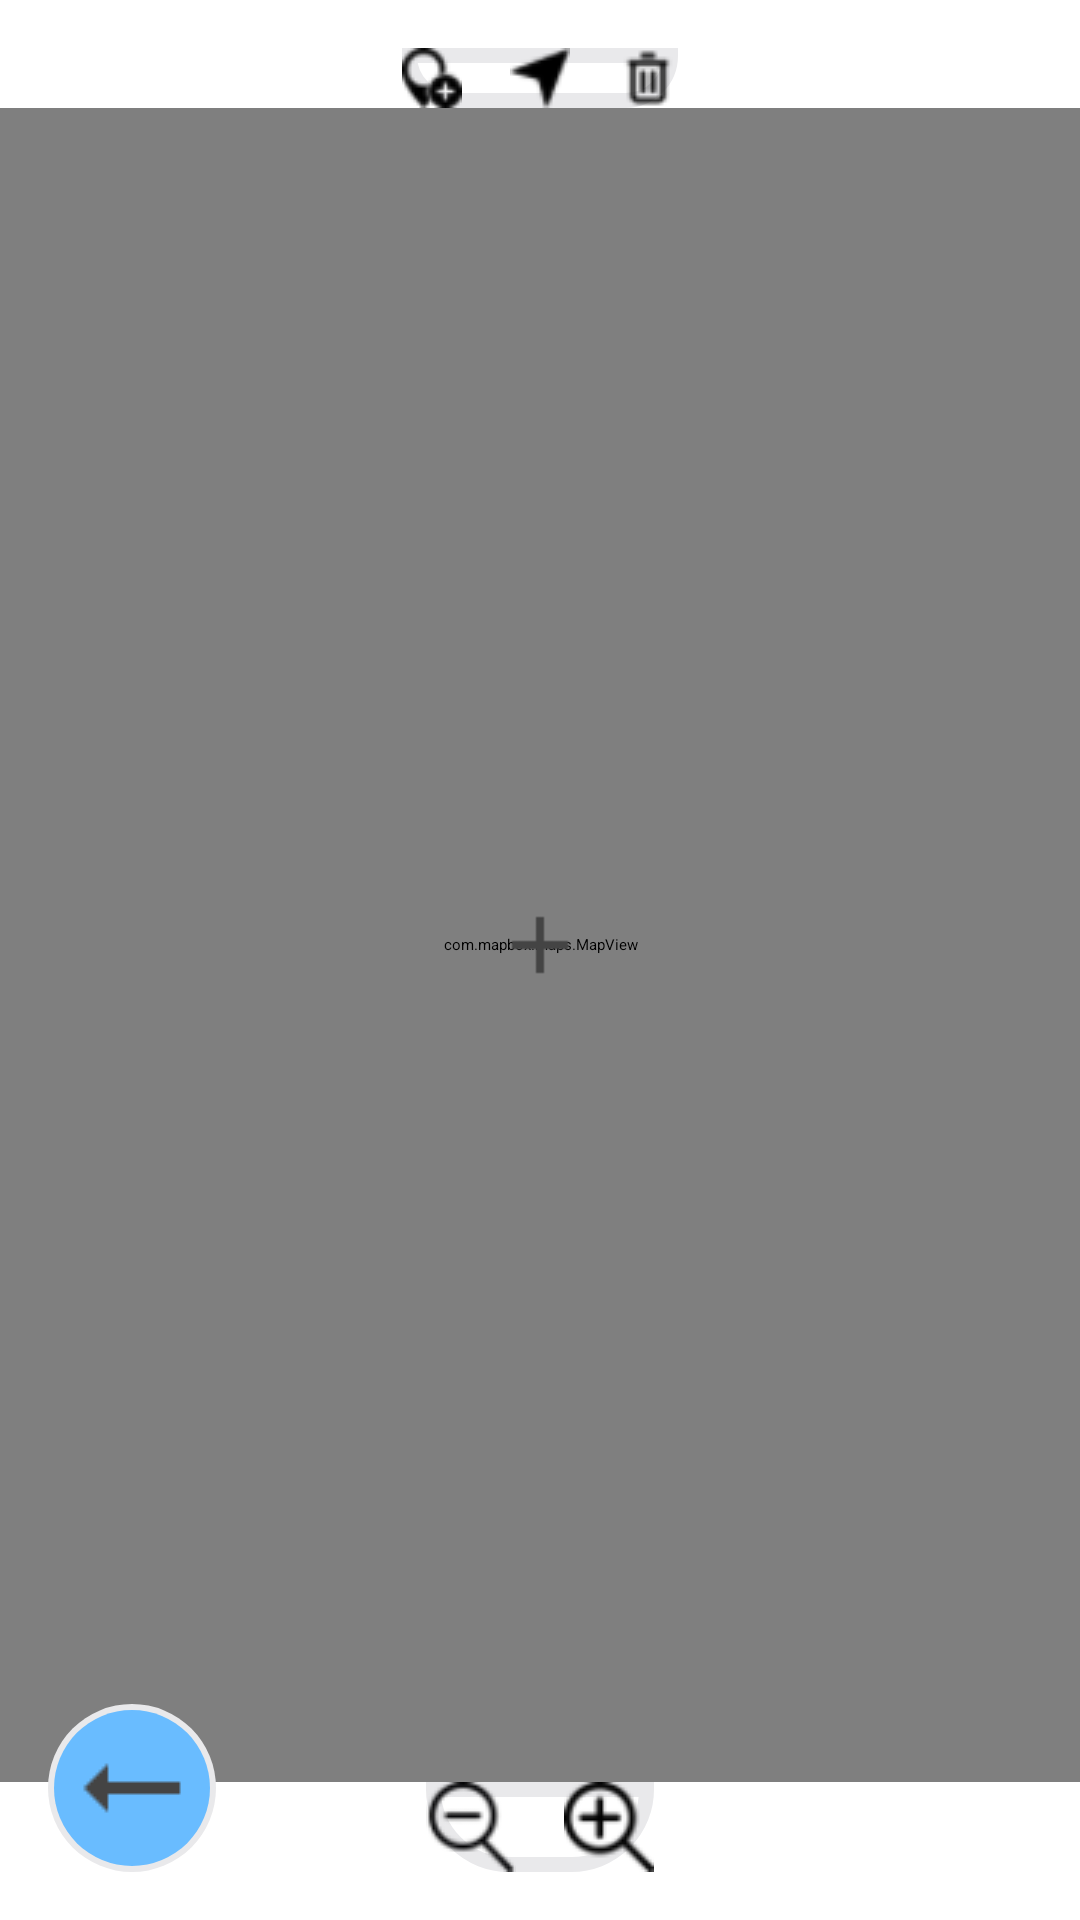

Screen size 1080 x 1920. Icon name, then its center in pixels as point (x, y):
back: point (132, 1788)
Zoom In: point (609, 1827)
Zoom Out: point (472, 1827)
Добавить метку: point (432, 78)
Проложить маршрут: point (540, 78)
Удалить метку: point (648, 78)
